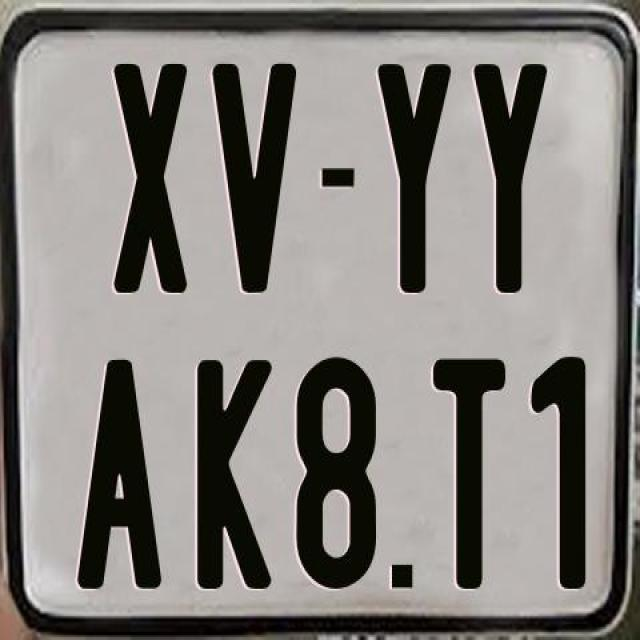1: (530, 355, 590, 592)
8: (294, 352, 382, 594)
A: (76, 356, 168, 594)
K: (197, 355, 275, 587)
T: (429, 355, 504, 595)
V: (210, 64, 302, 298)
X: (113, 64, 195, 293)
Y: (474, 61, 550, 292), (375, 64, 448, 296)
